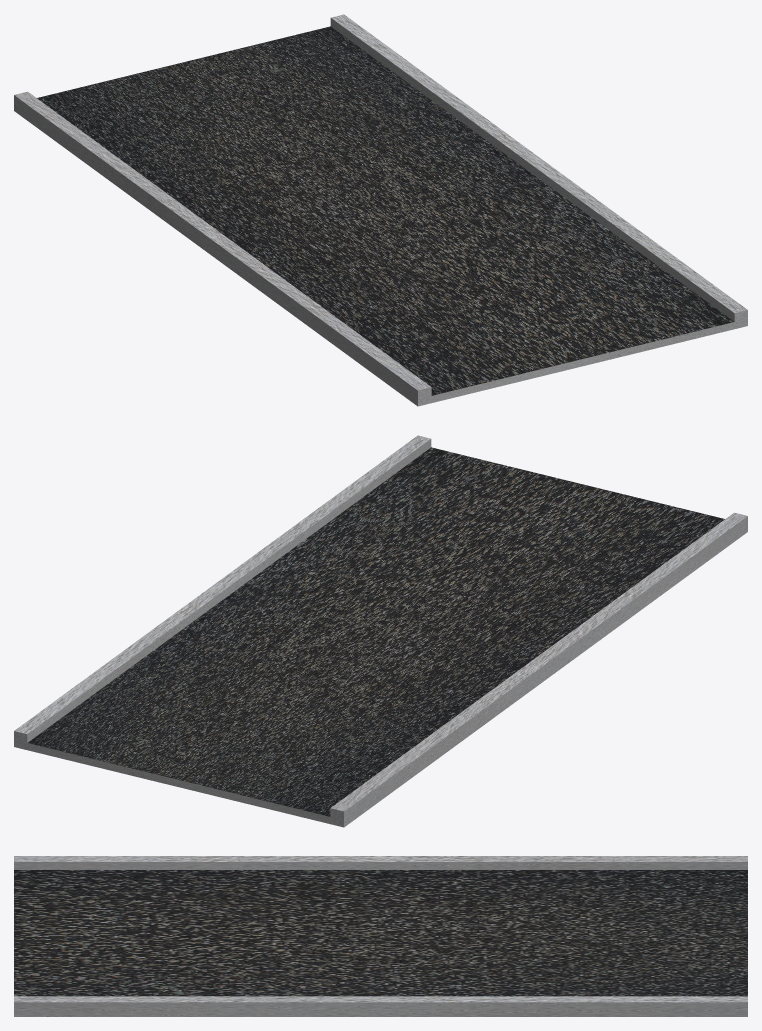
File: calle_asfalto_linea.obj
3 renders of one model, top to bottom at view 1: azimuth 30°, elevation 25°; view 2: azimuth 150°, elevation 25°; view 3: azimuth 270°, elevation 25°, orthographic. The views are drawn at different scales.
Visible parts, largest first — view 1: carretera; view 2: carretera; view 3: carretera.
Part boxes in pixels (left/top/right/bottom): carretera: left=14, top=14, right=747, bottom=406; carretera: left=14, top=435, right=747, bottom=827; carretera: left=14, top=856, right=747, bottom=1016.
Size of the model in its own units: 189 by 8.74 by 400.
Materials: 2 (2 with a texture image).
